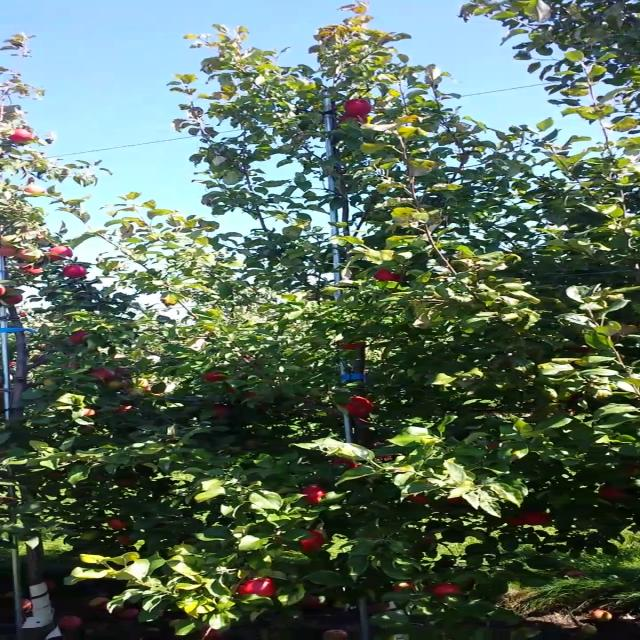apple: (238, 577, 276, 598), (340, 396, 374, 416), (300, 529, 324, 554), (598, 484, 628, 502), (302, 485, 326, 507), (430, 584, 462, 600), (345, 98, 372, 115), (6, 128, 34, 144), (85, 368, 116, 382), (46, 245, 73, 261), (331, 456, 359, 471), (524, 510, 550, 526), (199, 624, 223, 640), (374, 269, 402, 282), (338, 114, 373, 124), (62, 264, 87, 278), (69, 329, 90, 345), (407, 493, 431, 505), (300, 596, 324, 608), (447, 495, 469, 507), (20, 264, 46, 274), (200, 371, 225, 381), (22, 184, 46, 194), (212, 404, 228, 418), (3, 295, 25, 305), (502, 517, 524, 527), (18, 249, 36, 261), (2, 244, 20, 256), (119, 534, 136, 546), (110, 518, 126, 530), (395, 582, 413, 592), (340, 344, 368, 350), (106, 379, 122, 389), (83, 406, 97, 416), (243, 392, 260, 400), (121, 478, 134, 488), (1, 285, 7, 295)
